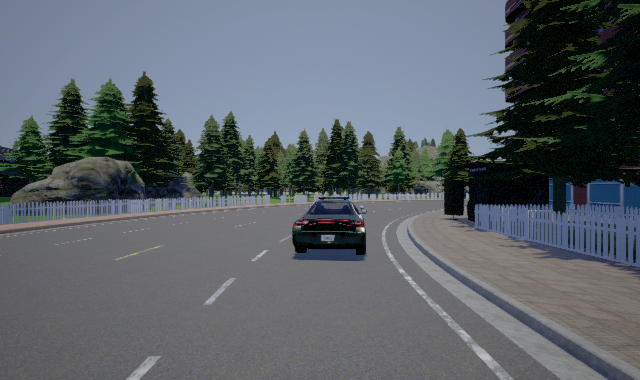vehicle: (292, 197, 367, 255)
